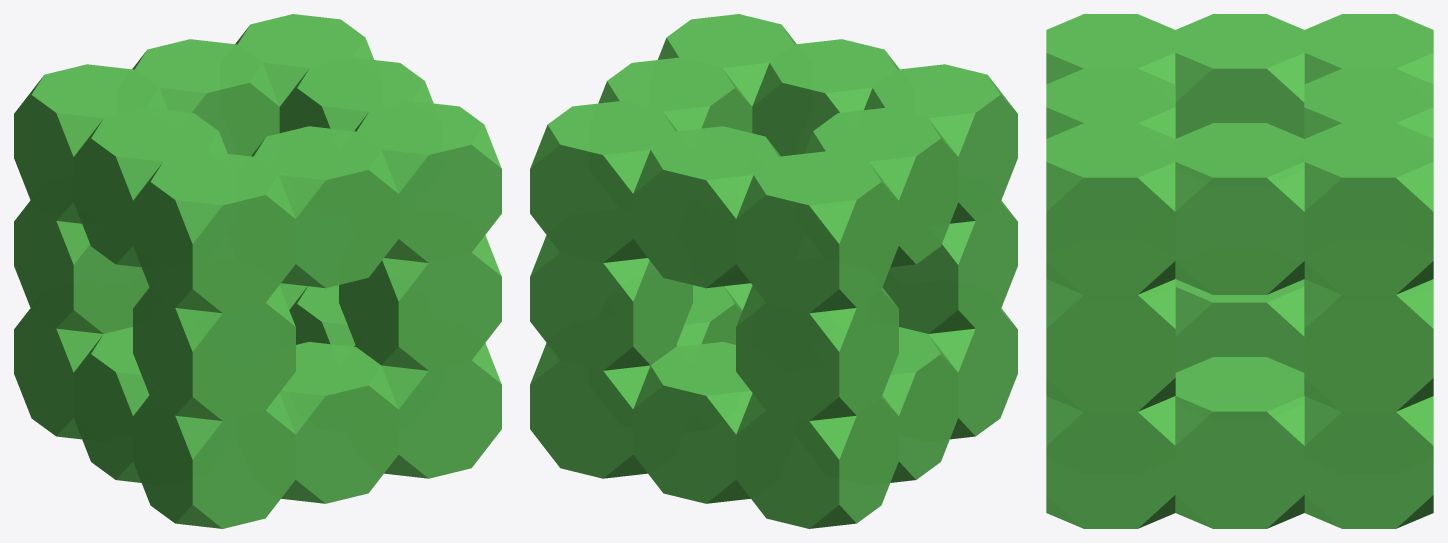
File: fractaltruncatedcube1-1.glb
3 views of the same model, side by side, from view 1: azimuth 30°, elevation 25°; view 2: azimuth 150°, elevation 25°; view 3: azimuth 270°, elevation 25° (orthographic). The views are drawn at different scales.
Size of the model in its own units: 7.2 by 7.2 by 7.2.
